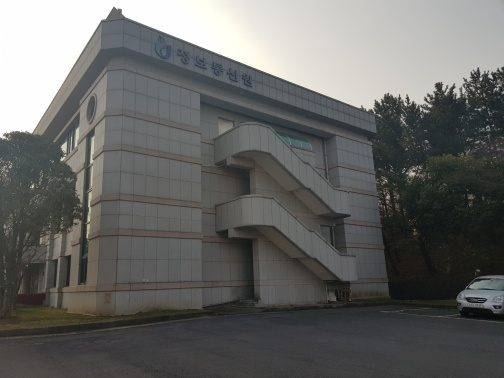Information Telecommunication Center: (71, 12, 394, 313), (141, 21, 263, 101)
